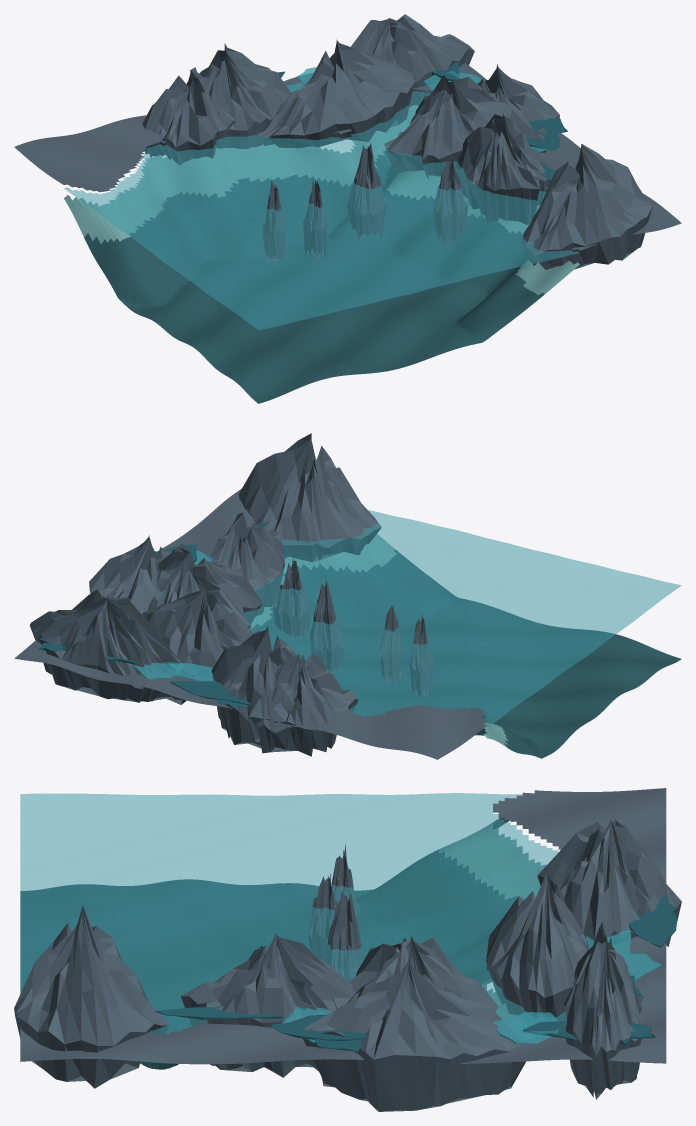
Rendered from water_tile_05.glb.
3 renders of one model, top to bottom at view 1: azimuth 30°, elevation 25°; view 2: azimuth 150°, elevation 25°; view 3: azimuth 270°, elevation 25°, orthographic. The views are drawn at different scales.
Visible parts, largest first — view 1: submerged mineral riverbed.005, glacial water surface 05, visible shallow mineral shelves.005, angular fractured shoreline ledge.067, angular fractured shoreline ledge.061, single continuous dark slate shoreline.005, angular fractured shoreline ledge.064, angular fractured shoreline ledge.065, angular fractured shoreline ledge.062, angular fractured shoreline ledge.060, angular fractured shoreline ledge.063, angular fractured shoreline ledge.066 (+4 smaller); view 2: glacial water surface 05, submerged mineral riverbed.005, angular fractured shoreline ledge.067, single continuous dark slate shoreline.005, angular fractured shoreline ledge.063, angular fractured shoreline ledge.062, angular fractured shoreline ledge.060, angular fractured shoreline ledge.061, angular fractured shoreline ledge.065, angular fractured shoreline ledge.064, angular fractured shoreline ledge.066, visible shallow mineral shelves.005 (+7 smaller); view 3: glacial water surface 05, submerged mineral riverbed.005, single continuous dark slate shoreline.005, angular fractured shoreline ledge.066, angular fractured shoreline ledge.067, angular fractured shoreline ledge.064, angular fractured shoreline ledge.061, angular fractured shoreline ledge.063, angular fractured shoreline ledge.062, visible shallow mineral shelves.005, angular fractured shoreline ledge.065, underwater worn boulder.018 (+11 smaller).
Part boxes in pixels (box(x1,y1,x2,y2)): submerged mineral riverbed.005: box(84, 151, 544, 403); glacial water surface 05: box(64, 91, 579, 329); visible shallow mineral shelves.005: box(64, 105, 579, 295); angular fractured shoreline ledge.067: box(521, 144, 652, 269); angular fractured shoreline ledge.061: box(257, 39, 414, 148); single continuous dark slate shoreline.005: box(14, 63, 681, 250); angular fractured shoreline ledge.064: box(456, 114, 550, 224); angular fractured shoreline ledge.065: box(384, 75, 511, 179); angular fractured shoreline ledge.062: box(199, 43, 290, 148); angular fractured shoreline ledge.060: box(142, 67, 235, 165); angular fractured shoreline ledge.063: box(351, 14, 474, 107); angular fractured shoreline ledge.066: box(477, 64, 559, 152); glacial water surface 05: box(244, 510, 681, 727); submerged mineral riverbed.005: box(250, 549, 681, 758); angular fractured shoreline ledge.067: box(238, 433, 381, 562); single continuous dark slate shoreline.005: box(14, 489, 487, 759); angular fractured shoreline ledge.063: box(29, 589, 191, 704); angular fractured shoreline ledge.062: box(211, 625, 312, 756); angular fractured shoreline ledge.060: box(248, 654, 358, 751); angular fractured shoreline ledge.061: box(142, 586, 252, 677); angular fractured shoreline ledge.065: box(148, 544, 262, 629); angular fractured shoreline ledge.064: box(209, 512, 284, 616); angular fractured shoreline ledge.066: box(89, 535, 171, 613); visible shallow mineral shelves.005: box(250, 534, 508, 747); glacial water surface 05: box(20, 793, 566, 1034); submerged mineral riverbed.005: box(20, 849, 516, 1069); single continuous dark slate shoreline.005: box(20, 788, 666, 1064); angular fractured shoreline ledge.066: box(302, 956, 525, 1111); angular fractured shoreline ledge.067: box(14, 905, 169, 1088); angular fractured shoreline ledge.064: box(181, 933, 355, 1077); angular fractured shoreline ledge.061: box(486, 870, 589, 1020); angular fractured shoreline ledge.063: box(564, 919, 644, 1099); angular fractured shoreline ledge.062: box(561, 818, 671, 946); visible shallow mineral shelves.005: box(439, 818, 546, 1019); angular fractured shoreline ledge.065: box(333, 936, 498, 1011); underwater worn boulder.018: box(325, 891, 363, 981).
Size of the model in its own units: 1.03 by 0.3598 by 1.03.
